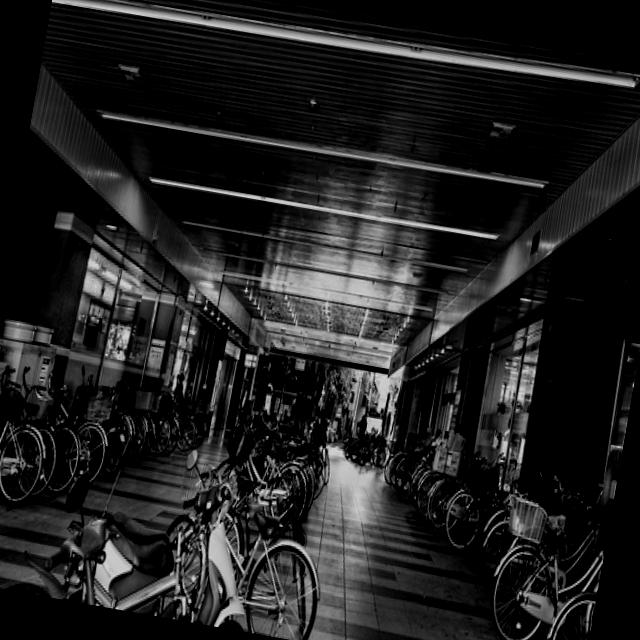Vehicle: (89, 433, 281, 633)
